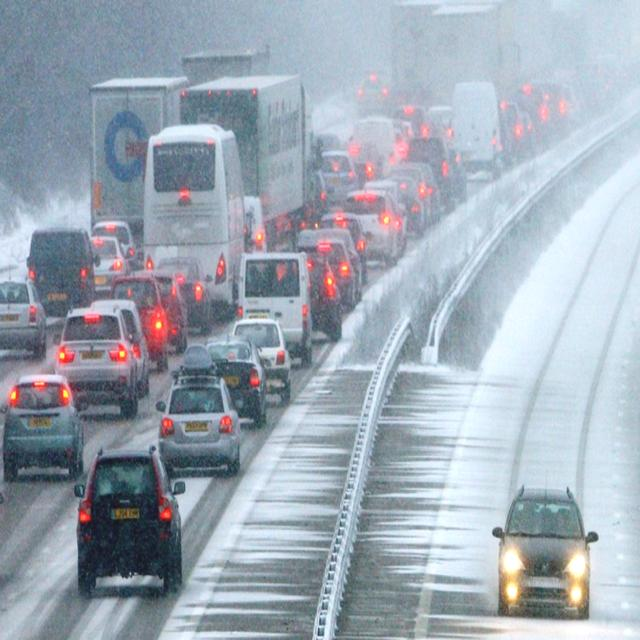Bus: (139, 124, 243, 312)
Car: (75, 446, 182, 592), (493, 473, 595, 609), (55, 301, 148, 416), (0, 370, 86, 494), (154, 368, 236, 479), (110, 274, 181, 368), (27, 226, 96, 317), (203, 334, 271, 426), (299, 232, 357, 333), (340, 188, 404, 264), (156, 256, 210, 335), (404, 136, 460, 210), (516, 81, 574, 151), (1, 277, 48, 359), (323, 212, 371, 284), (390, 163, 440, 231), (349, 116, 399, 180), (314, 150, 362, 211), (91, 236, 132, 296), (498, 100, 534, 164), (177, 342, 217, 379), (395, 104, 431, 145), (356, 73, 391, 114), (243, 195, 267, 254), (427, 105, 455, 142)
Truck: (181, 72, 316, 241), (86, 70, 182, 234)
Van: (237, 250, 312, 338), (445, 86, 502, 177)
